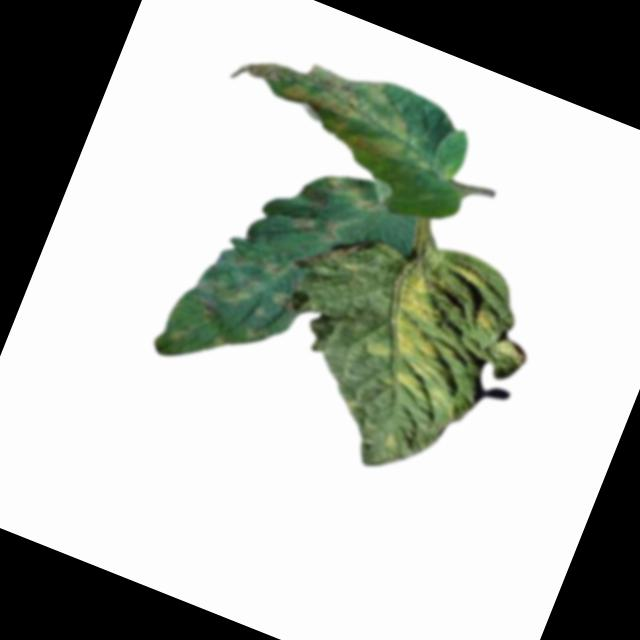Leaf_Mold: (221, 30, 422, 169), (355, 257, 479, 407), (194, 254, 268, 318), (317, 167, 387, 219), (283, 205, 343, 249), (255, 247, 300, 286), (445, 257, 492, 292), (241, 321, 274, 354), (470, 307, 501, 340), (265, 286, 297, 316)
